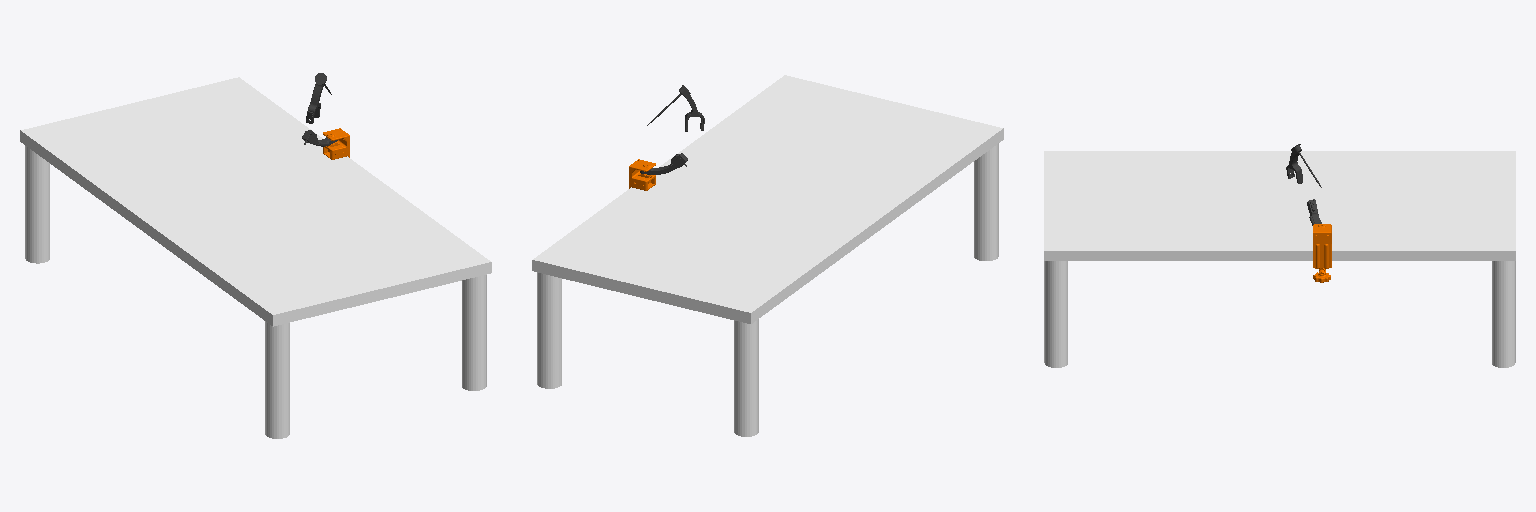
The robot description file, URDF, robot "spherical_arm":
<?xml version="1.0" encoding="utf-8"?>
<!-- This URDF was automatically created by SolidWorks to URDF Exporter! -->

<!-- ==================== -->
<!-- ROBOT DEFINITION     -->
<!-- ==================== -->
<robot name="spherical_arm">



<!-- ==================== -->
<!-- MATERIAL DEFINITIONS -->
<!-- ==================== -->
<material name="dark_grey">
  <color rgba="0.3 0.3 0.3 1" />
</material>

<material name="white">
  <color rgba="1 1 1 1" />
</material>

<material name="neon_orange">
  <color rgba="1 0.5 0 1" />
</material>

<!-- ==================== -->
<!-- TABLE STRUCTURE      -->
<!-- ==================== -->
<!-- Table Legs -->
<link name="Leg1">
  <inertial>
    <origin xyz="0 0 0" rpy="0 0 0" />
    <mass value="0.5" />
    <inertia ixx="0.01" ixy="0" ixz="0" iyy="0.01" iyz="0" izz="0.01" />
  </inertial>
  <visual>
    <origin xyz="0 0 -0.25" rpy="0 0 0" />
    <geometry>
      <cylinder radius="0.05" length="0.5" />
    </geometry>
    <material name="white" />
  </visual>
  <collision>
    <origin xyz="0 0 -0.25" rpy="0 0 0" />
    <geometry>
      <cylinder radius="0.05" length="0.5" />
    </geometry>
  </collision>
</link>

<link name="Leg2">
  <inertial>
    <origin xyz="0 0 0" rpy="0 0 0" />
    <mass value="0.5" />
    <inertia ixx="0.01" ixy="0" ixz="0" iyy="0.01" iyz="0" izz="0.01" />
  </inertial>
  <visual>
    <origin xyz="0 0 -0.25" rpy="0 0 0" />
    <geometry>
      <cylinder radius="0.05" length="0.5" />
    </geometry>
    <material name="white" />
  </visual>
  <collision>
    <origin xyz="0 0 -0.25" rpy="0 0 0" />
    <geometry>
      <cylinder radius="0.05" length="0.5" />
    </geometry>
  </collision>
</link>

<link name="Leg3">
  <inertial>
    <origin xyz="0 0 0" rpy="0 0 0" />
    <mass value="0.5" />
    <inertia ixx="0.01" ixy="0" ixz="0" iyy="0.01" iyz="0" izz="0.01" />
  </inertial>
  <visual>
    <origin xyz="0 0 -0.25" rpy="0 0 0" />
    <geometry>
      <cylinder radius="0.05" length="0.5" />
    </geometry>
    <material name="white" />
  </visual>
  <collision>
    <origin xyz="0 0 -0.25" rpy="0 0 0" />
    <geometry>
      <cylinder radius="0.05" length="0.5" />
    </geometry>
  </collision>
</link>

<link name="Leg4">
  <inertial>
    <origin xyz="0 0 0" rpy="0 0 0" />
    <mass value="0.5" />
    <inertia ixx="0.01" ixy="0" ixz="0" iyy="0.01" iyz="0" izz="0.01" />
  </inertial>
  <visual>
    <origin xyz="0 0 -0.25" rpy="0 0 0" />
    <geometry>
      <cylinder radius="0.05" length="0.5" />
    </geometry>
    <material name="white" />
  </visual>
  <collision>
    <origin xyz="0 0 -0.25" rpy="0 0 0" />
    <geometry>
      <cylinder radius="0.05" length="0.5" />
    </geometry>
  </collision>
</link>

<!-- Table Leg Joints -->
<joint name="Table_to_Leg1" type="fixed">
  <origin xyz="0.45 0.95 -0.025" rpy="0 0 0" />
  <parent link="Table" />
  <child link="Leg1" />
</joint>

<joint name="Table_to_Leg2" type="fixed">
  <origin xyz="-0.45 0.95 -0.025" rpy="0 0 0" />
  <parent link="Table" />
  <child link="Leg2" />
</joint>

<joint name="Table_to_Leg3" type="fixed">
  <origin xyz="0.45 -0.95 -0.025" rpy="0 0 0" />
  <parent link="Table" />
  <child link="Leg3" />
</joint>

<joint name="Table_to_Leg4" type="fixed">
  <origin xyz="-0.45 -0.95 -0.025" rpy="0 0 0" />
  <parent link="Table" />
  <child link="Leg4" />
</joint>

<!-- Table Surface -->
<link name="Table">
  <inertial>
    <origin xyz="0 0 0" rpy="0 0 0" />
    <mass value="5.0" />
    <inertia ixx="0.1" ixy="0" ixz="0" iyy="0.1" iyz="0" izz="0.1" />
  </inertial>
  <visual>
    <origin xyz="0 0 0" rpy="0 0 0" />
    <geometry>
      <box size="1 2 0.05" />
    </geometry>
    <material name="white"/>
  </visual>
  <collision>
    <origin xyz="0 0 0" rpy="0 0 0" />
    <geometry>
      <box size="0.5 0.5 0.05" />
    </geometry>
  </collision>
</link>

<!-- ==================== -->
<!-- ROBOT BASE STRUCTURE -->
<!-- ==================== -->
<!-- Clamp-Table Connection -->
<joint name="Clamp_to_Table" type="fixed">
  <origin xyz="-0.5 -0.3 +0.01" rpy="0 0 0" />
  <parent link="Clamp" />
  <child link="Table" />
</joint>

<!-- Clamp (Root Link) -->
<link name="Clamp">
  <visual>
    <origin xyz="0 0 0" rpy="0 0 0" />
    <geometry>
      <mesh filename="package://spherical_arm/meshes/Clamp.STL" />
    </geometry>
    <material name="neon_orange"/>
  </visual>
  <collision>
    <origin xyz="0 0 0" rpy="0 0 0" />
    <geometry>
      <mesh filename="package://spherical_arm/meshes/Clamp.STL" />
    </geometry>
  </collision>
</link>

<!-- Base Bottom Part -->
<link name="BaseBottom">
  <inertial>
    <origin xyz="0.027516 0.014617 -5.3932E-08" rpy="0 0 0" />
    <mass value="0.10485" />
    <inertia ixx="7.271E-05" ixy="-1.7562E-05" ixz="3.3609E-12" iyy="0.00011017" iyz="-4.0092E-11" izz="7.6148E-05" />
  </inertial>
  <visual>
    <origin xyz="0 0 0" rpy="1.5708 0 0" />
    <geometry>
      <mesh filename="package://spherical_arm/meshes/BaseBottom.STL" />
    </geometry>
    <material name="neon_orange"/>
  </visual>
  <collision>
    <origin xyz="0 0 0" rpy="0 0 0" />
    <geometry>
      <mesh filename="package://spherical_arm/meshes/BaseBottom.STL" />
    </geometry>
  </collision>
</link>

<joint name="BaseCoincident" type="fixed">
  <origin xyz="-0.042533 -0.12096 0.069938" rpy="0 0 0" />
  <parent link="Clamp" />
  <child link="BaseBottom" />
  <axis xyz="0 0 0" />
</joint>

<!-- Base Top Part -->
<link name="Basetop">
  <inertial>
    <origin xyz="0.017744 0.050216 5.5971E-08" rpy="0 0 0" />
    <mass value="0.061686" />
    <inertia ixx="3.3277E-05" ixy="3.1323E-06" ixz="6.4171E-11" iyy="6.5761E-05" iyz="5.3966E-12" izz="3.5972E-05" />
  </inertial>
  <visual>
    <origin xyz="0 0 0" rpy="0 0 0" />
    <geometry>
      <mesh filename="package://spherical_arm/meshes/Basetop.STL" />
    </geometry>
    <material name="neon_orange"/>
  </visual>
  <collision>
    <origin xyz="0 0 0" rpy="0 0 0" />
    <geometry>
      <mesh filename="package://spherical_arm/meshes/Basetop.STL" />
    </geometry>
  </collision>
</link>

<joint name="Basetop_coincident" type="fixed">
  <origin xyz="0 0 0" rpy="1.5708 0 0" />
  <parent link="BaseBottom" />
  <child link="Basetop" />
  <axis xyz="0 0 0" />
</joint>

<!-- ==================== -->
<!-- ROBOT ARM SEGMENTS   -->
<!-- ==================== -->
<!-- First Arm Segment -->
<link name="Link1">
  <inertial>
    <origin xyz="-0.073232 -0.1745 0.015767" rpy="0 0 0" />
    <mass value="0.13439" />
    <inertia ixx="7.1758E-05" ixy="0.00011693" ixz="3.8198E-07" iyy="0.00034167" iyz="8.0268E-07" izz="0.00038897" />
  </inertial>
  <visual>
    <origin xyz="0 0 0" rpy="0 0 0" />
    <geometry>
      <mesh filename="package://spherical_arm/meshes/Link1.STL" />
    </geometry>
    <material name="dark_grey"/>
  </visual>
  <collision>
    <origin xyz="0 0 0" rpy="0 0 0" />
    <geometry>
      <mesh filename="package://spherical_arm/meshes/Link1.STL" />
    </geometry>
  </collision>
</link>

<joint name="Base_Revolute" type="revolute">
  <origin xyz="-0.011931 0.2308 -0.014931" rpy="0 +0.32246 0" />
  <parent link="Basetop" />
  <child link="Link1" />
  <axis xyz="0 1 0" />
  <limit lower="-1.5708" upper="1.5708" effort="10" velocity="1" />
</joint>

<!-- Second Arm Segment -->
<link name="Link2">
  <inertial>
    <origin xyz="-0.14211 -0.03561 0.00027708" rpy="0 0 0" />
    <mass value="0.14126" />
    <inertia ixx="0.00022787" ixy="8.7681E-05" ixz="1.3203E-07" iyy="0.00010115" iyz="8.5903E-07" izz="0.00030502" />
  </inertial>
  <visual>
    <origin xyz="0 0 0" rpy="0 0 0" />
    <geometry>
      <mesh filename="package://spherical_arm/meshes/Link2.STL" />
    </geometry>
    <material name="dark_grey"/>
  </visual>
  <collision>
    <origin xyz="0 0 0" rpy="0 0 0" />
    <geometry>
      <mesh filename="package://spherical_arm/meshes/Link2.STL" />
    </geometry>
  </collision>
</link>

<joint name="Revolute_2" type="revolute">
  <origin xyz="-0.033505 -0.033505 0.015" rpy="0.34542 0.32648 0.057449" />
  <parent link="Link1" />
  <child link="Link2" />
  <axis xyz="0.70711 0.70711 0" />
  <limit lower="-1.5708" upper="1.5708" effort="10" velocity="1" />
</joint>

<!-- Third Arm Segment -->
<link name="Link3">
  <inertial>
    <origin xyz="-0.15007 -0.043098 1.8252E-06" rpy="0 0 0" />
    <mass value="0.14347" />
    <inertia ixx="0.00022731" ixy="9.6672E-05" ixz="3.6072E-09" iyy="0.00015405" iyz="-3.4694E-09" izz="0.0003606" />
  </inertial>
  <visual>
    <origin xyz="0 0 0" rpy="0 0 0" />
    <geometry>
      <mesh filename="package://spherical_arm/meshes/Link3.STL" />
    </geometry>
    <material name="dark_grey"/>
  </visual>
  <collision>
    <origin xyz="0 0 0" rpy="0 0 0" />
    <geometry>
      <mesh filename="package://spherical_arm/meshes/Link3.STL" />
    </geometry>
  </collision>
</link>

<joint name="Revolute3" type="revolute">
  <origin xyz="0 0.033257 0" rpy="-0.13898 -0.13765 -0.7758" />
  <parent link="Link2" />
  <child link="Link3" />
  <axis xyz="0.70711 0.70711 0" />
  <limit lower="-1.5708" upper="1.5708" effort="10" velocity="1" />
</joint>
  <!-- ==================== -->
  <!-- GAZEBO MATERIALS     -->
  <!-- ==================== -->
  <!-- Table Legs -->
  <gazebo reference="Leg1">
    <material>Gazebo/White</material>
  </gazebo>
  
  <gazebo reference="Leg2">
    <material>Gazebo/White</material>
  </gazebo>
  
  <gazebo reference="Leg3">
    <material>Gazebo/White</material>
  </gazebo>
  
  <gazebo reference="Leg4">
    <material>Gazebo/White</material>
  </gazebo>
  
  <!-- Table -->
  <gazebo reference="Table">
    <material>Gazebo/White</material>
  </gazebo>
  
  <!-- Base Components -->
  <gazebo reference="Clamp">
    <material>Gazebo/Orange</material>
  </gazebo>
  
  <gazebo reference="BaseBottom">
    <material>Gazebo/Orange</material>
  </gazebo>
  
  <gazebo reference="Basetop">
    <material>Gazebo/Orange</material>
  </gazebo>
  
  <!-- Robot Arm Links -->
  <gazebo reference="Link1">
    <material>Gazebo/DarkGrey</material>
  </gazebo>
  
  <gazebo reference="Link2">
    <material>Gazebo/DarkGrey</material>
  </gazebo>
  
  <gazebo reference="Link3">
    <material>Gazebo/DarkGrey</material>
  </gazebo>

</robot>


--- What the picture shows (computed from the rendered views, not written in the file) ---
3 views of the same robot in one strip: view 1: azimuth 30°, elevation 25°; view 2: azimuth 150°, elevation 25°; view 3: azimuth 270°, elevation 25° (orthographic).
Model spherical_arm with 11 links and 10 joints (3 revolute, 7 fixed), rooted at Clamp, posed every joint at zero.
Links seen in each view (by area): view 1: Table, Leg4, Leg3, Leg2, Link3; view 2: Table, Leg2, Leg1, Leg4; view 3: Table, Leg1, Leg3, Clamp.
Link boxes in pixels (box(x1,y1,x2,y2)): Table: box(20, 77, 491, 326); Leg4: box(265, 321, 289, 438); Leg3: box(462, 275, 486, 390); Leg2: box(25, 146, 49, 263); Link3: box(306, 73, 331, 123); Table: box(532, 75, 1003, 323); Leg2: box(734, 319, 758, 436); Leg1: box(537, 272, 561, 388); Leg4: box(974, 143, 998, 260); Table: box(1044, 151, 1515, 260); Leg1: box(1492, 261, 1515, 367); Leg3: box(1044, 261, 1067, 367); Clamp: box(1313, 244, 1331, 282).
Bounding box of the posed robot: 1.02 × 2 × 0.9763 m (x, y, z).
5 mesh visuals loaded from 6 distinct referenced files (5 binary STL); not drawn: 1 (reference not matched to a file when rendering).